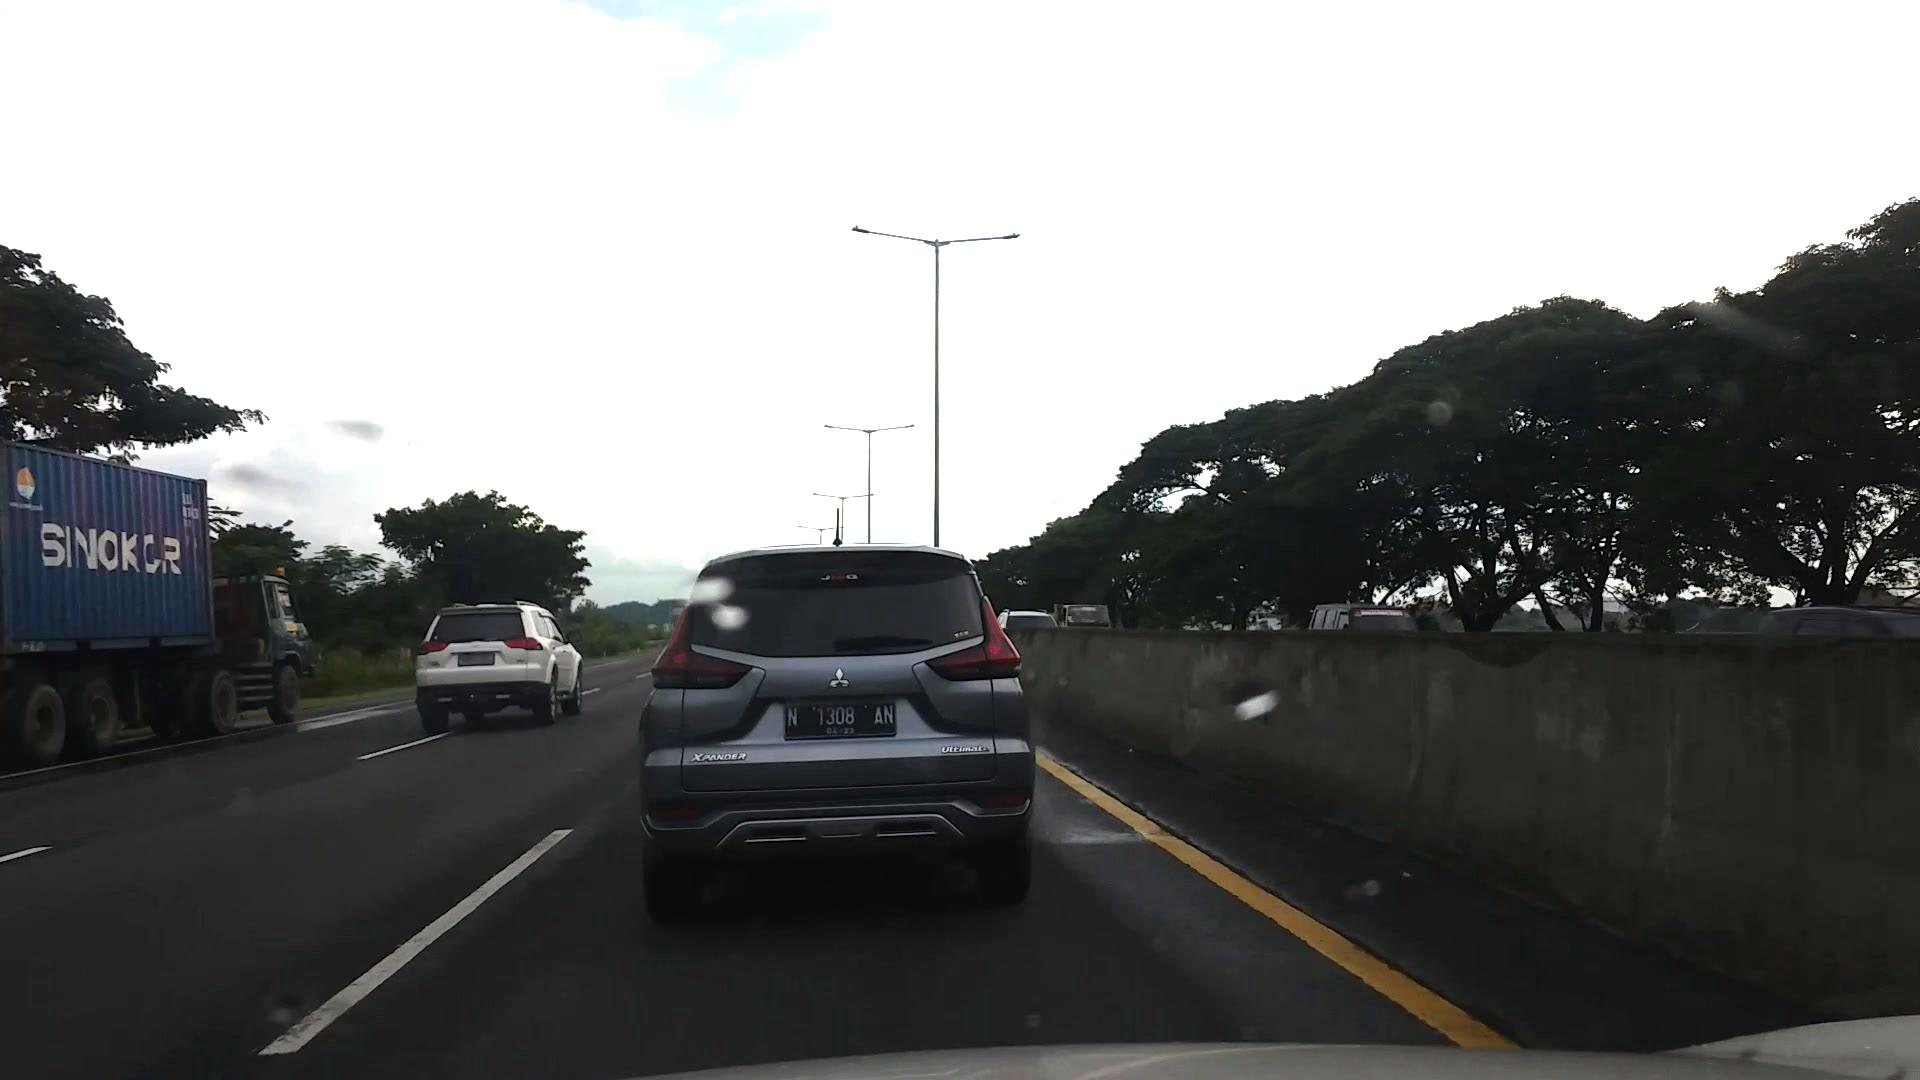plate_positive: (785, 703, 895, 738)
